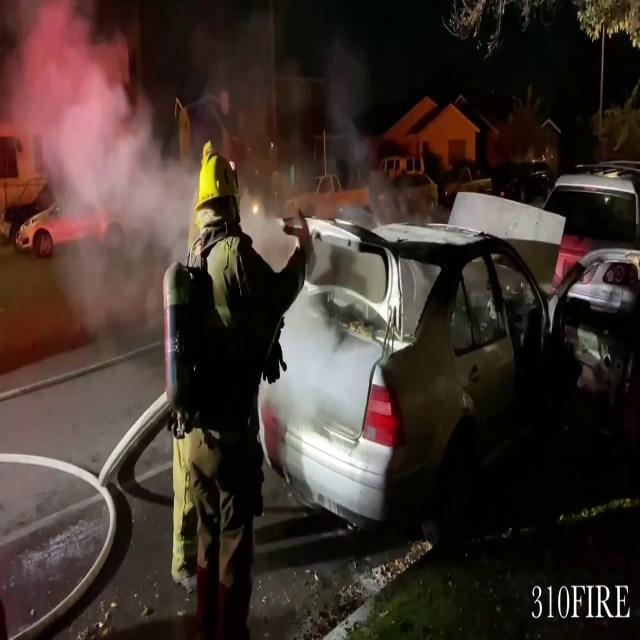Smoke: (1, 0, 386, 311), (0, 0, 173, 315)
